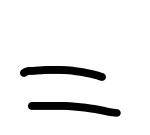eqv: (13, 61, 128, 121)
